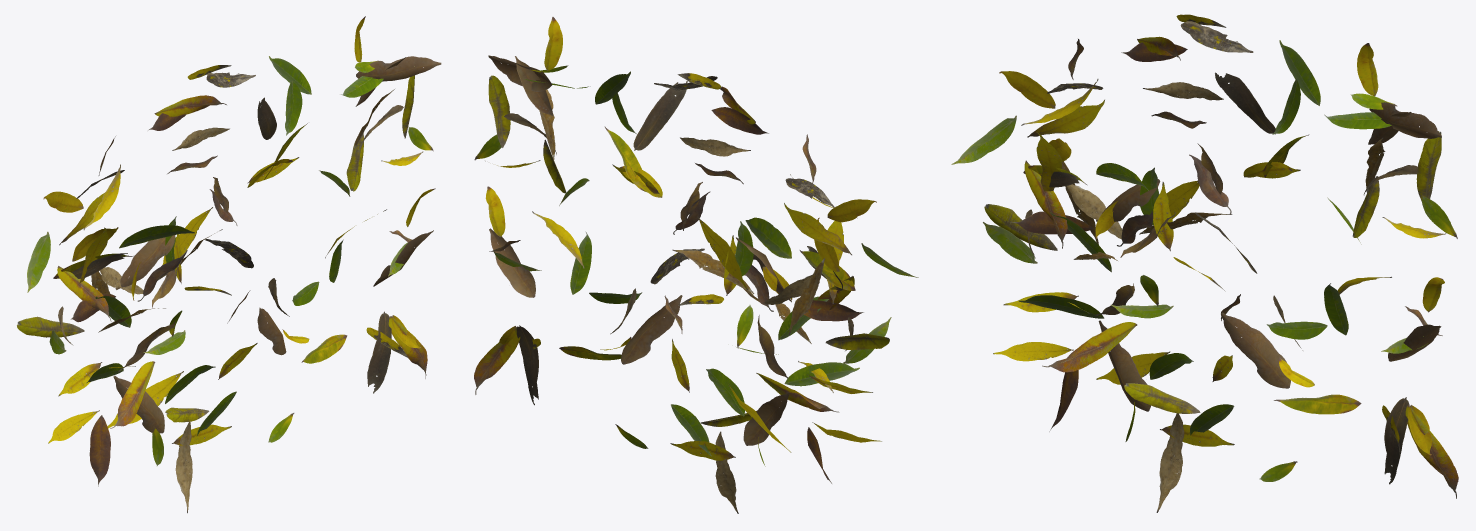
File: Leaf_Pile_03_Var2_LOD1.fbx
3 views of the same model, side by side, from view 1: azimuth 30°, elevation 25°; view 2: azimuth 150°, elevation 25°; view 3: azimuth 330°, elevation 25° (orthographic). The views are drawn at different scales.
Visible parts, largest first — view 1: Var2_LOD1; view 2: Var2_LOD1; view 3: Var2_LOD1.
Part boxes in pixels (x1=…): Var2_LOD1: x1=17, y1=16, x2=441, y2=513; Var2_LOD1: x1=474, y1=17, x2=918, y2=513; Var2_LOD1: x1=951, y1=14, x2=1458, y2=512.
Bounding box in the file's own units: 64.19 × 65.72 × 7.75.
